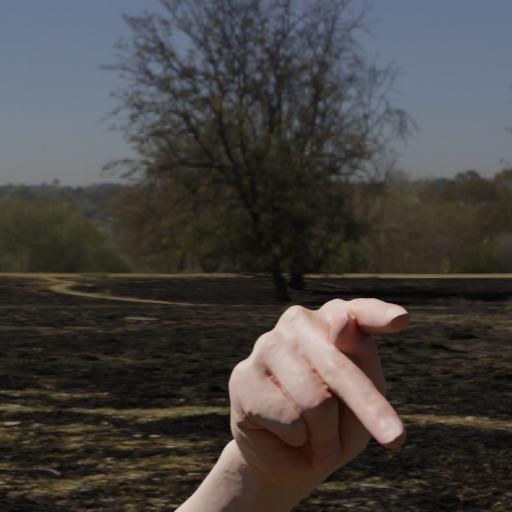P: (224, 296, 414, 474)
